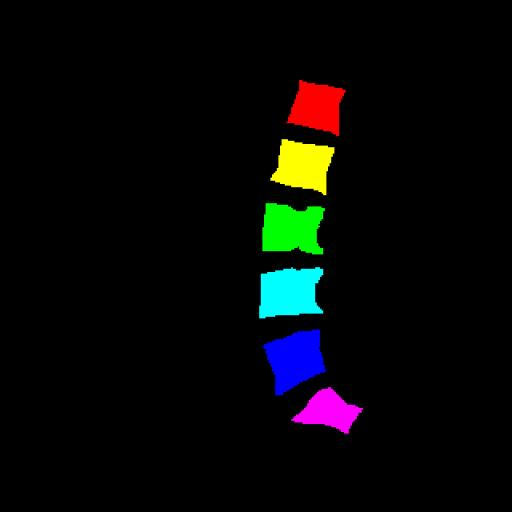L1: (287, 80, 346, 136)
L2: (270, 139, 334, 194)
L3: (264, 204, 323, 254)
L4: (259, 270, 323, 318)
L5: (263, 330, 325, 394)
S1: (292, 387, 363, 434)
